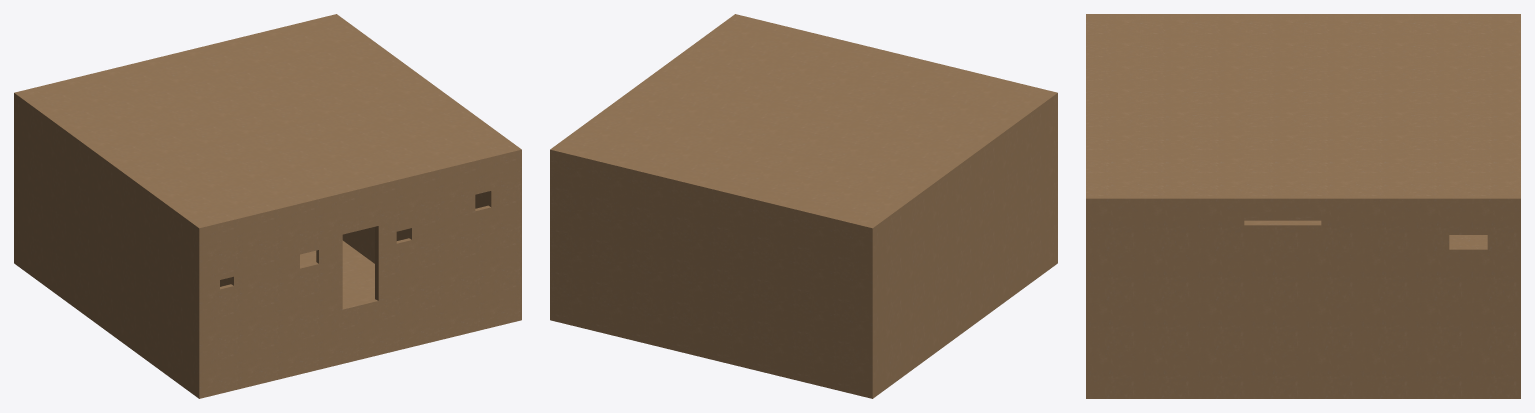
File: complex_hut.gltf
The picture shows the model from 3 angles, left to right: view 1: azimuth 30°, elevation 25°; view 2: azimuth 150°, elevation 25°; view 3: azimuth 270°, elevation 25°; orthographic projection. The views are drawn at different scales.
Parts seen in each view (by area): view 1: Cube; view 2: Cube; view 3: Cube.
Boxes of the visible parts, x1,y1,x2,y2 form: Cube: (14,14,521,398); Cube: (550,14,1057,398); Cube: (1086,14,1520,398).
Size of the model in its own units: 9 by 4.55 by 8.95.
Materials: 1 (1 with a texture image).
